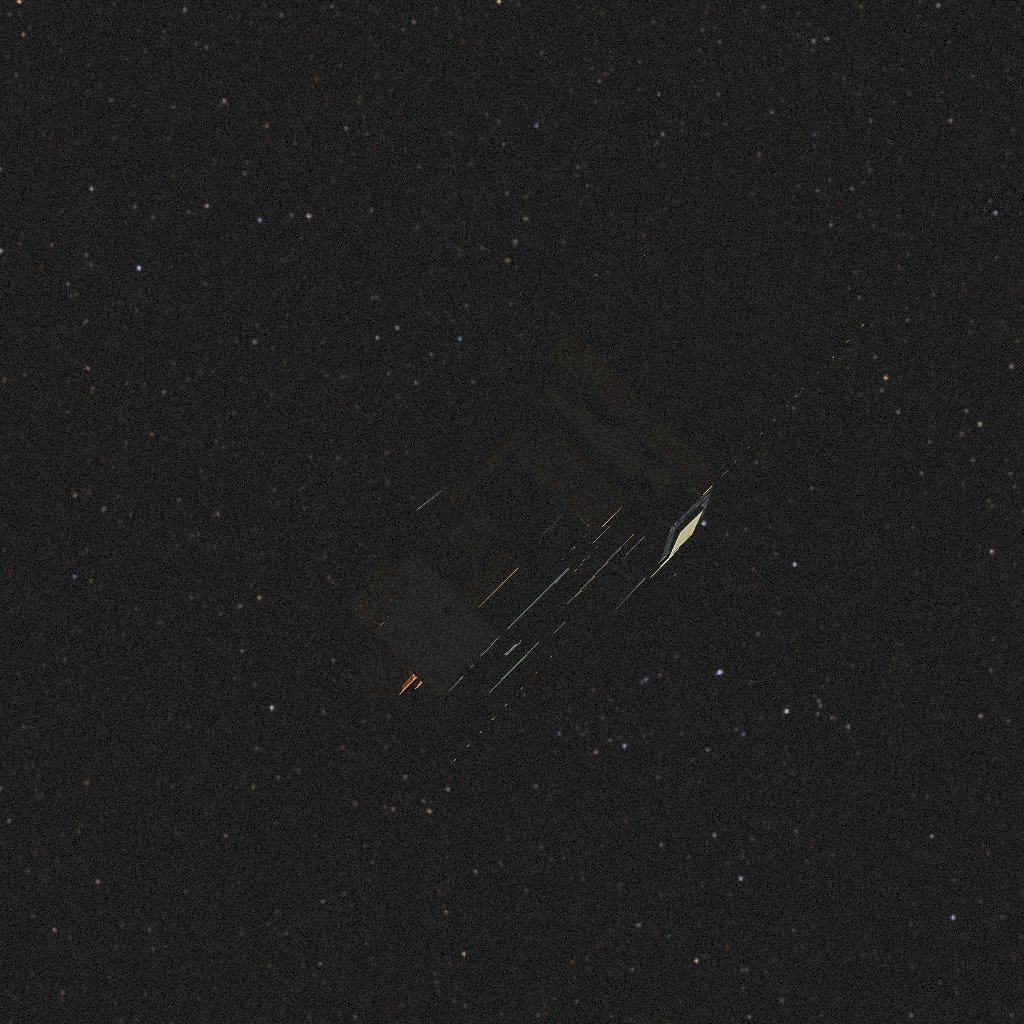soho: (309, 217, 796, 708)
